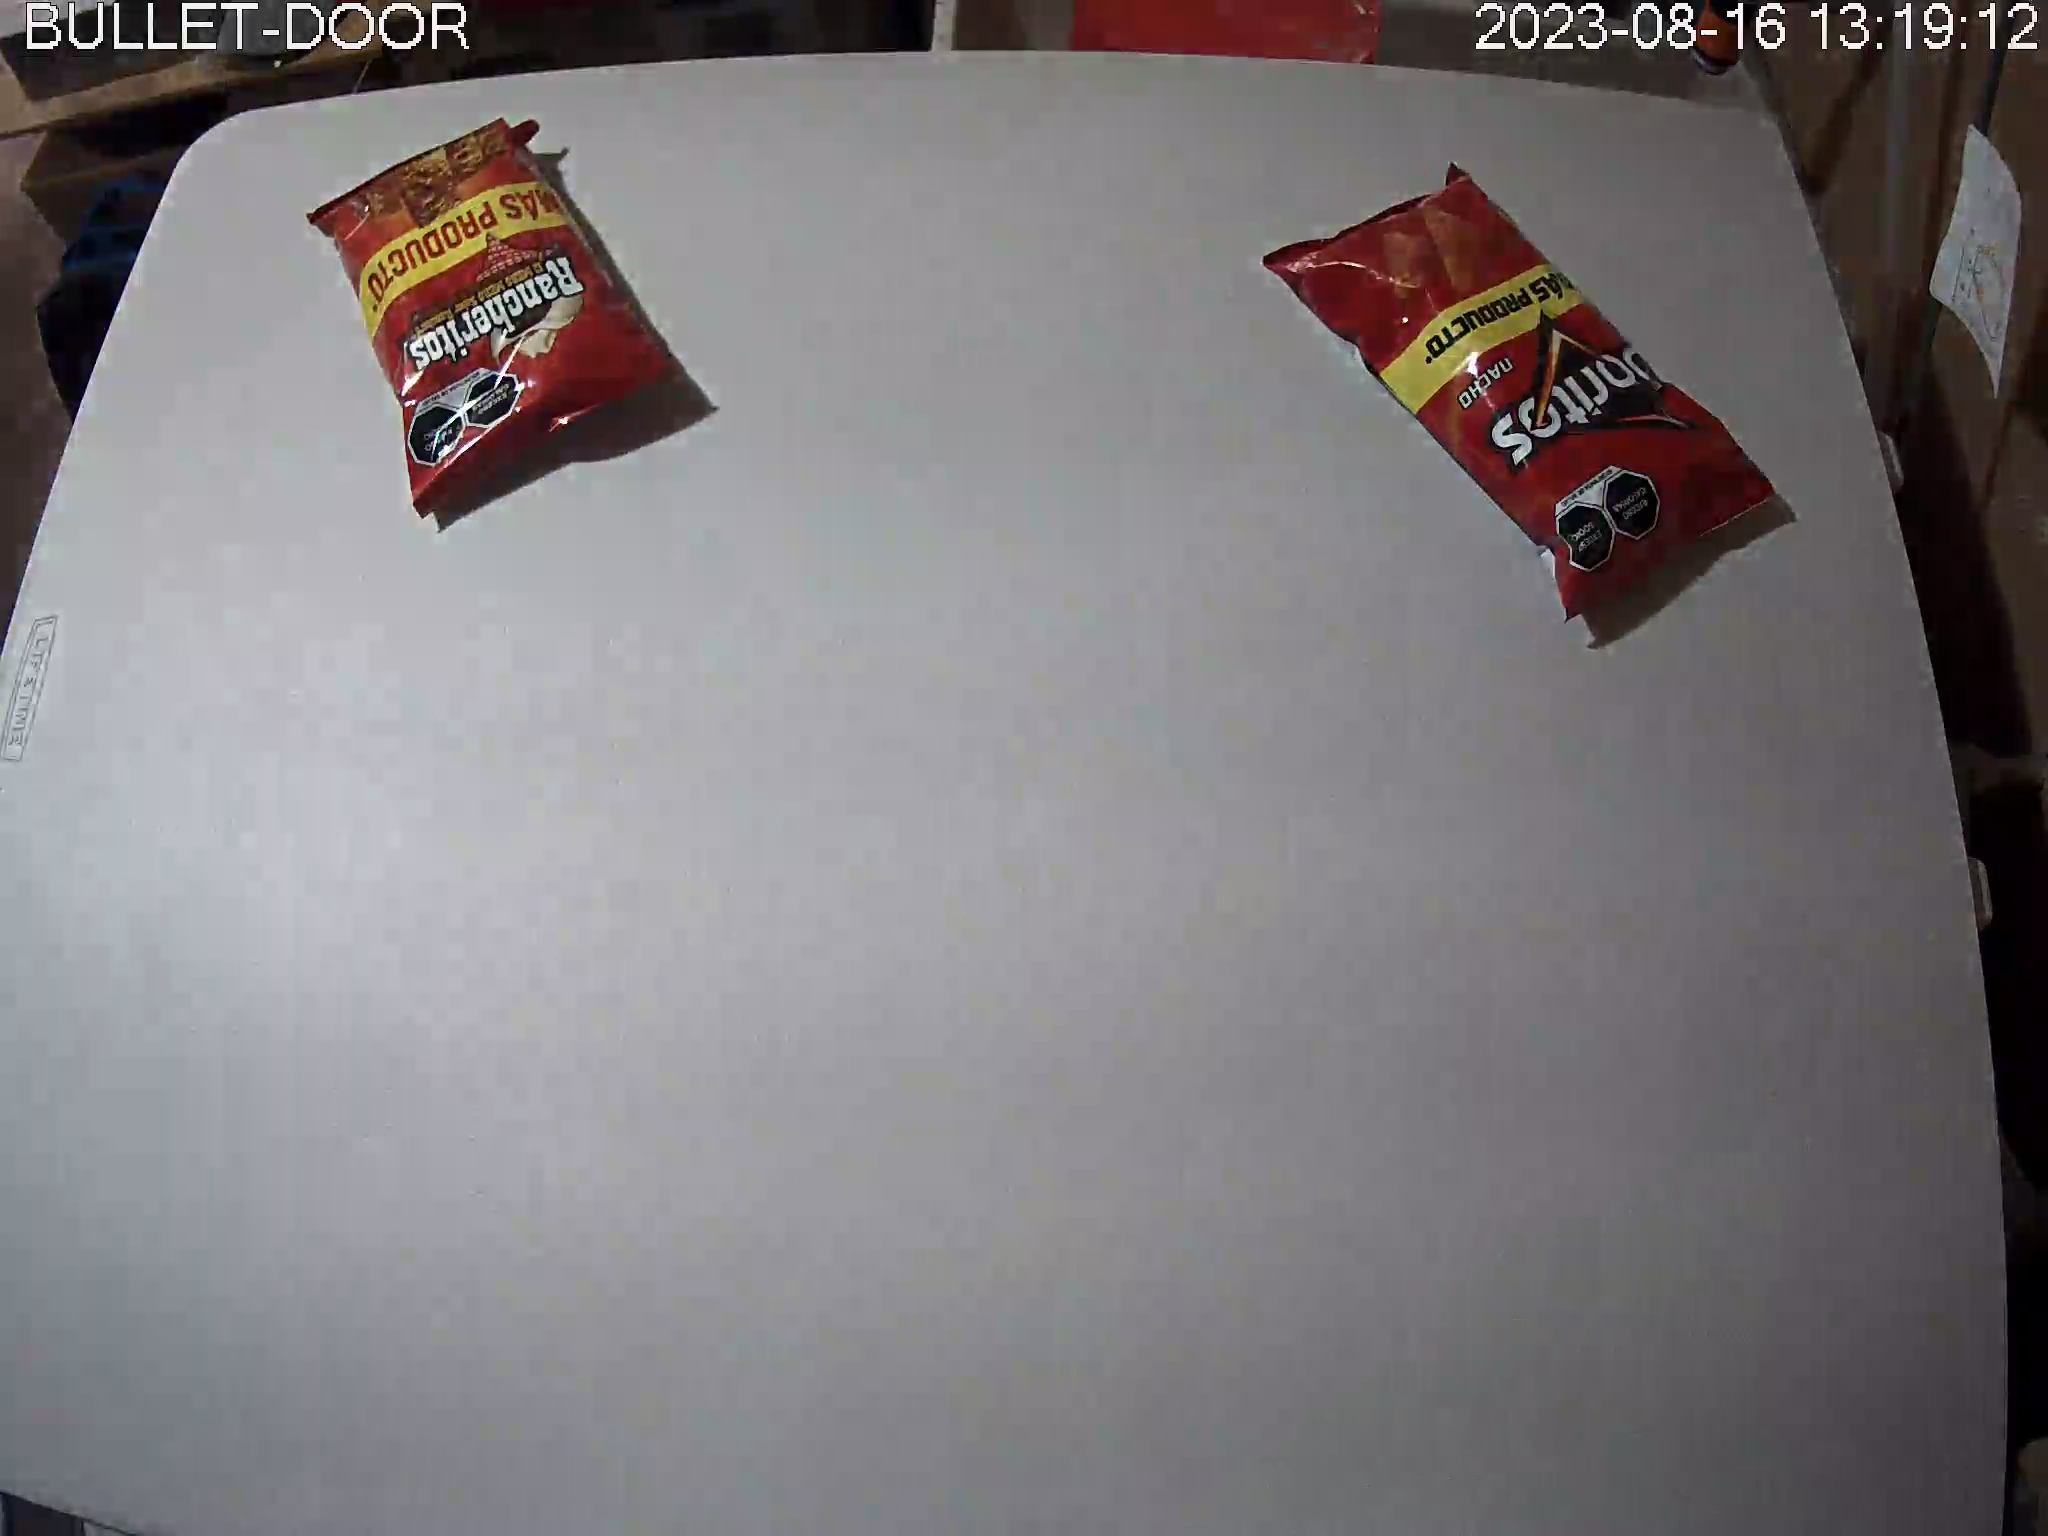DoritosN_61_F: (1259, 161, 1779, 623)
Rancheritos_58_F: (305, 116, 690, 518)
